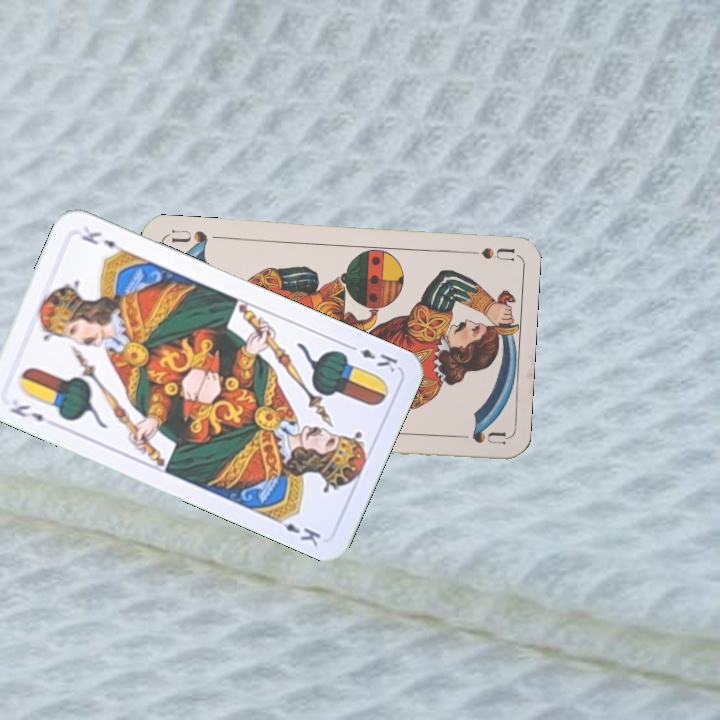EK: (343, 340, 400, 375), (6, 400, 47, 424)
SU: (456, 243, 515, 264)
